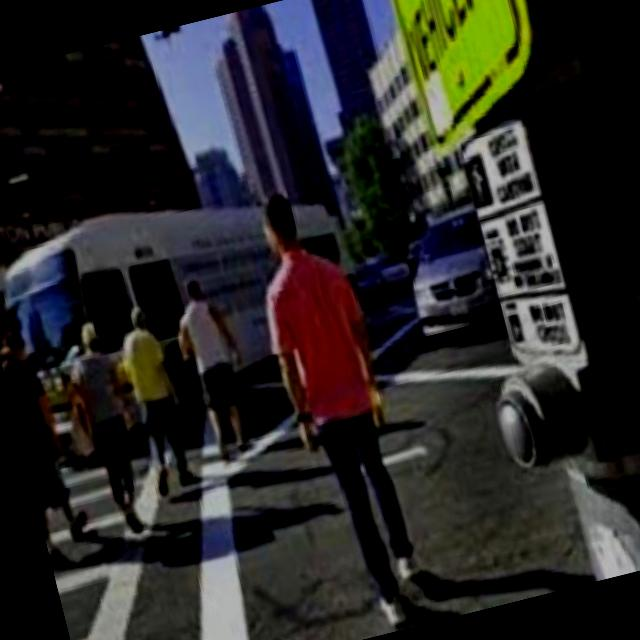Person: (232, 168, 449, 640), (0, 317, 106, 570), (54, 313, 162, 529), (160, 264, 266, 460), (103, 298, 203, 498)
